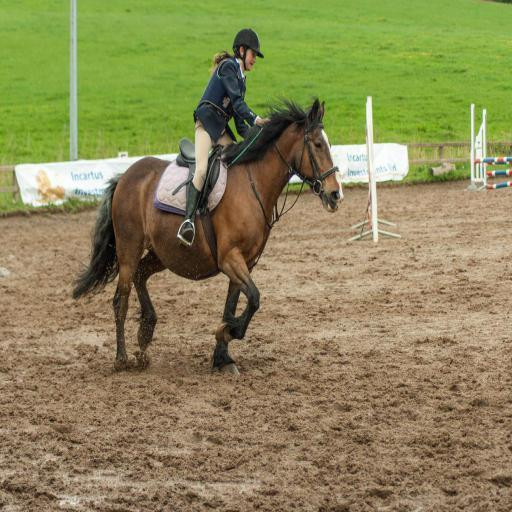horse: (75, 96, 345, 373)
